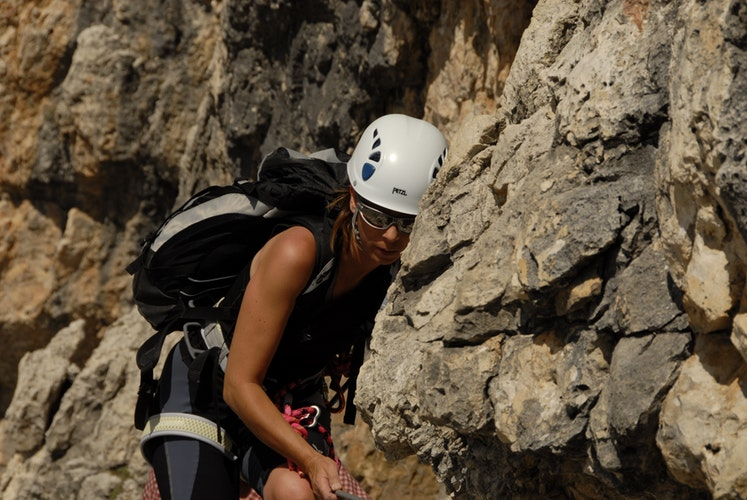helmet: (342, 102, 442, 214)
